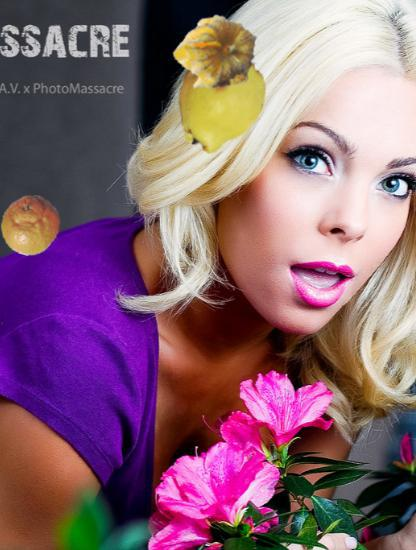Mandarine: (0, 195, 61, 256)
Physalis: (172, 8, 260, 96)
Quince: (166, 45, 274, 153)
